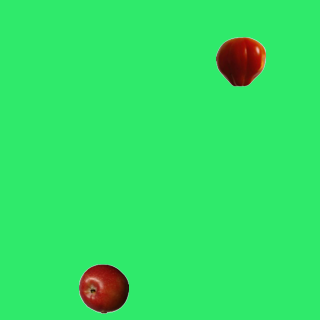Apple Braeburn: (78, 263, 128, 313)
Tomato 1: (215, 36, 265, 86)
